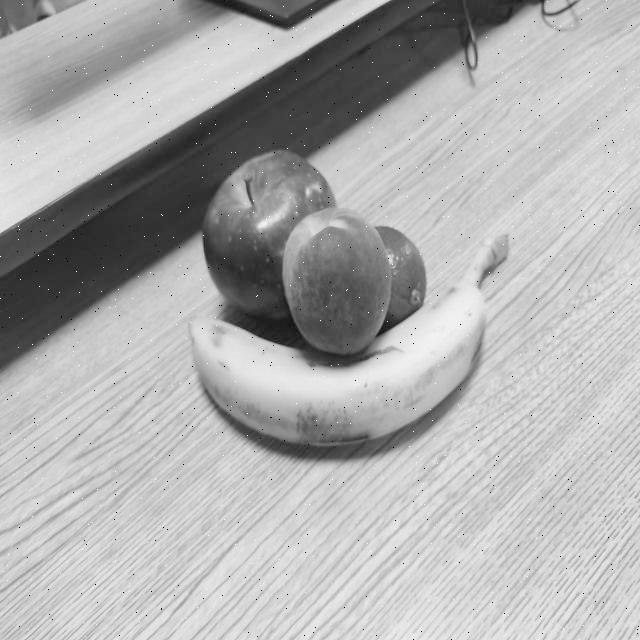Apel Merah: (202, 148, 342, 328)
Lemon: (344, 225, 427, 339)
Persik: (282, 204, 392, 360)
Pisang: (186, 234, 518, 452)
